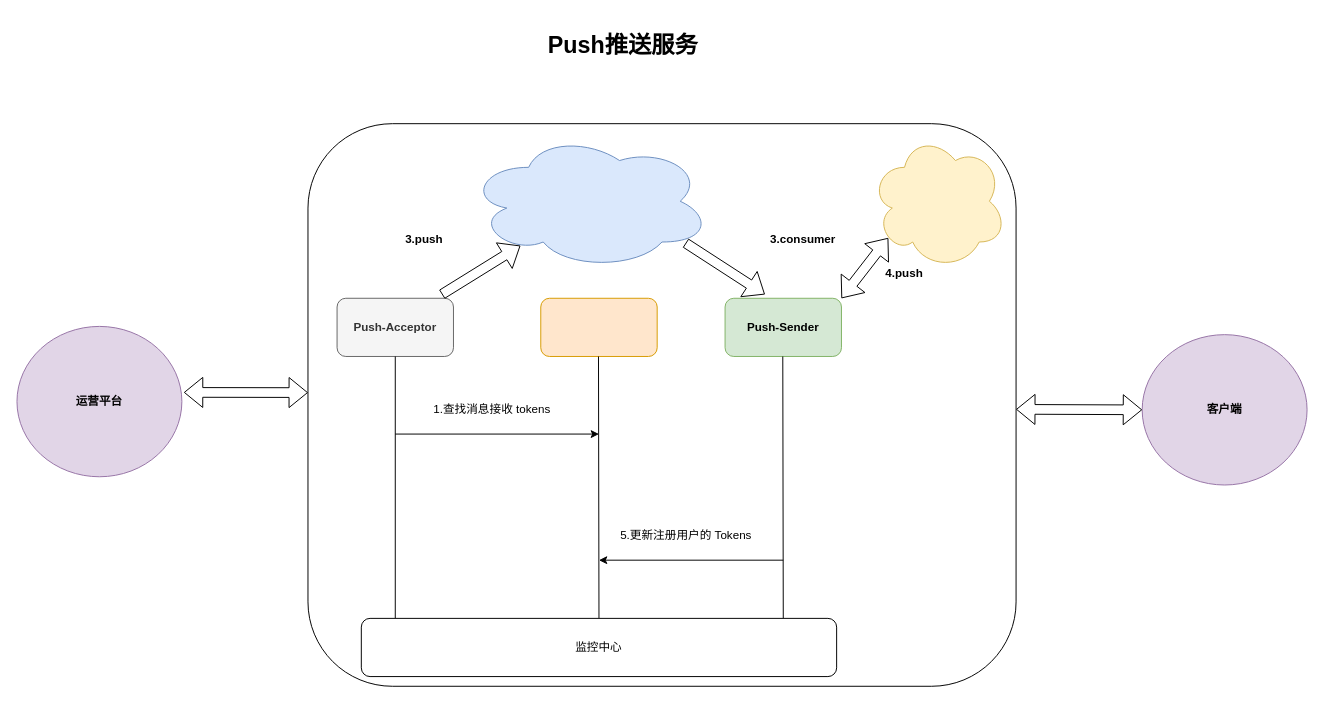
This 1324x703 diagram has some shape labels left out. The box of each missing label's shape, as (x1, y1, x2, y2) in pixels:
FCM 云: (870, 132, 1006, 269)
Push-Token: (540, 297, 657, 356)
SQS 云: (467, 132, 711, 269)
